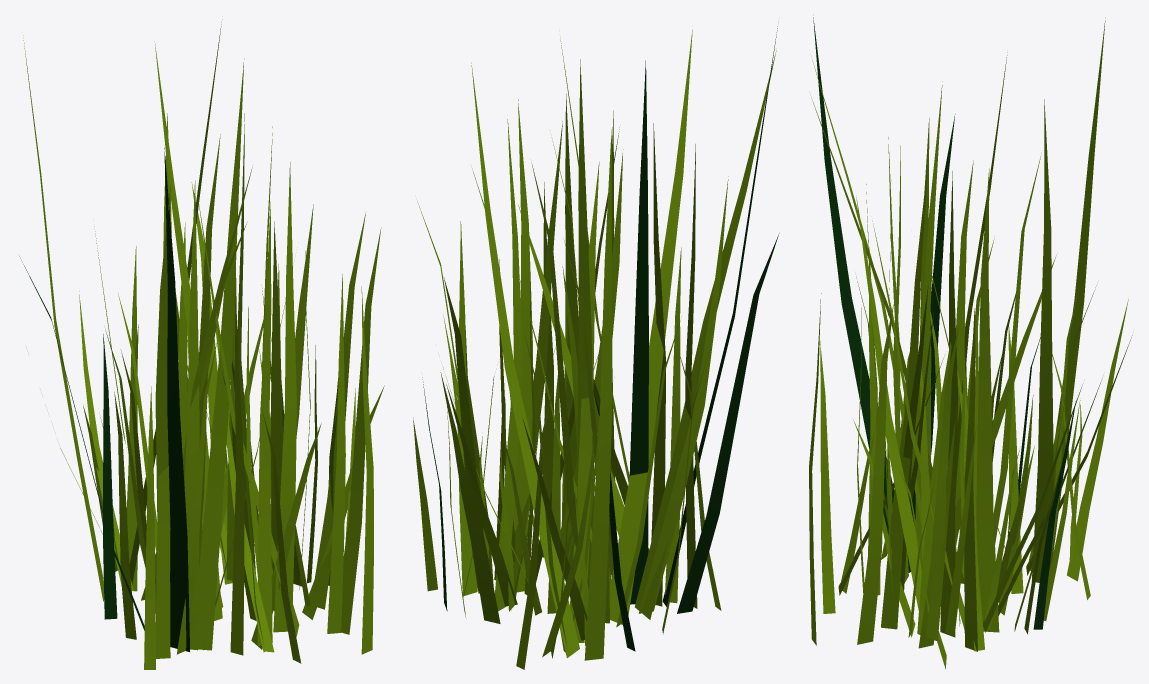
File: GrassLong.obj
3 renders of one model, left to right at view 1: azimuth 30°, elevation 25°; view 2: azimuth 150°, elevation 25°; view 3: azimuth 270°, elevation 25°, orthographic. The views are drawn at different scales.
Parts seen in each view (by area): view 1: GrassLong; view 2: GrassLong; view 3: GrassLong.
Part boxes in pixels (x1,y1,x2,y2): GrassLong: (19, 19, 384, 669); GrassLong: (413, 26, 779, 669); GrassLong: (809, 17, 1132, 669).
Size of the model in its own units: 20.79 by 33.16 by 17.41.
